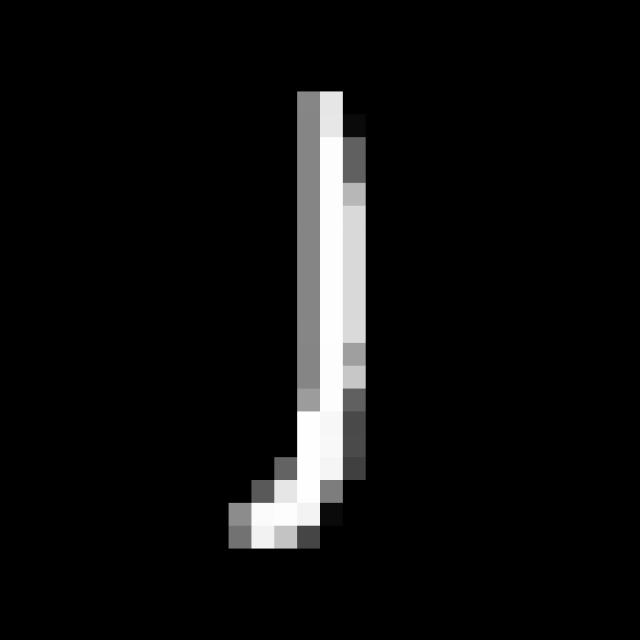one -1-: (215, 73, 383, 570)
